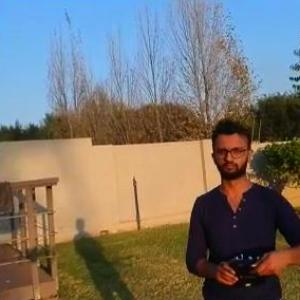follow: (174, 113, 300, 299)
